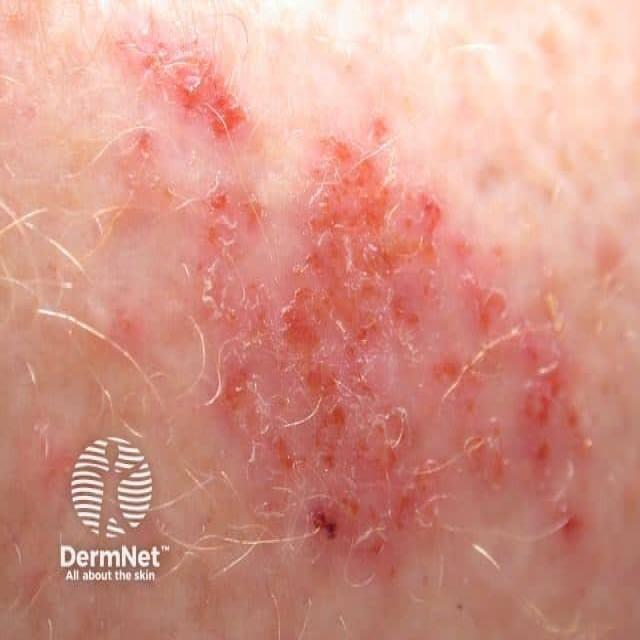Eczema: (96, 46, 592, 578)
